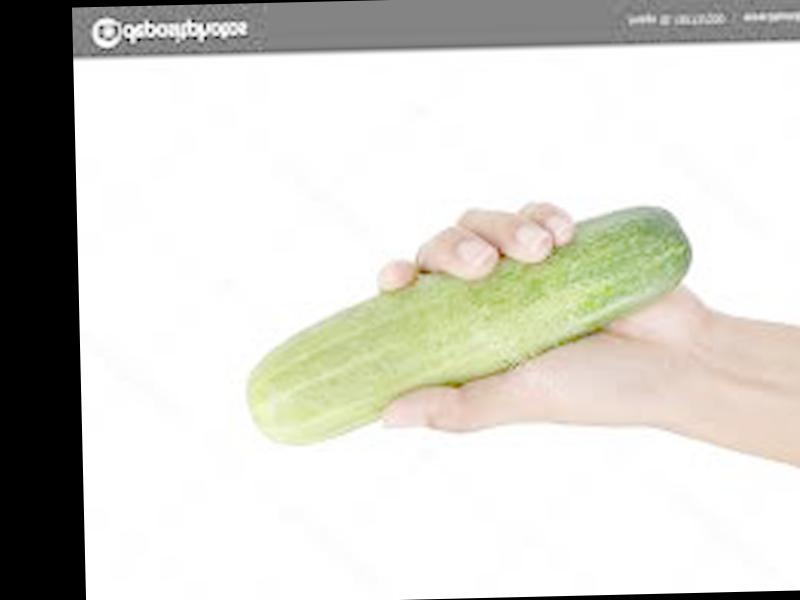Cucumber: (244, 208, 697, 449)
